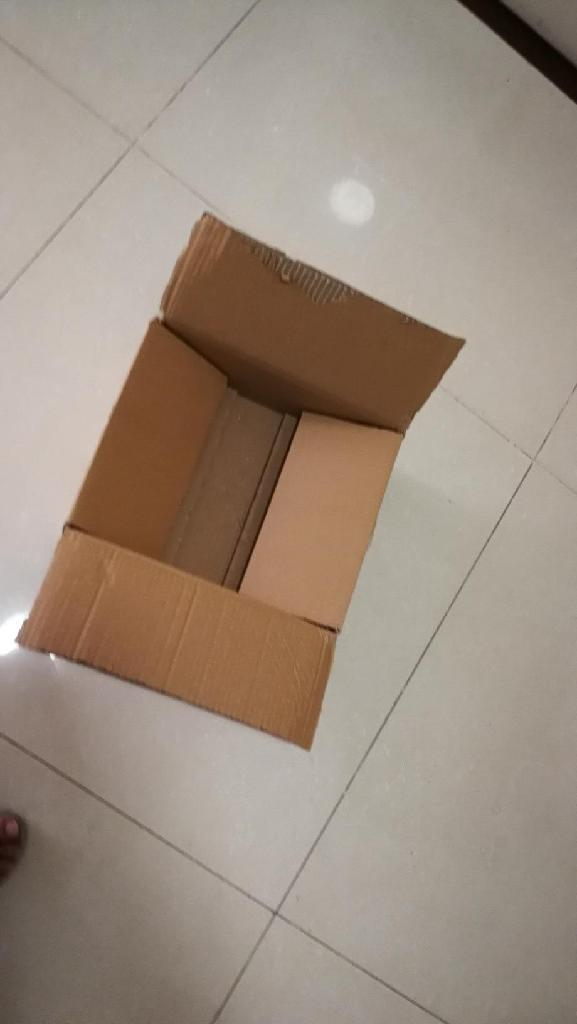cardboard: (19, 213, 462, 748)
